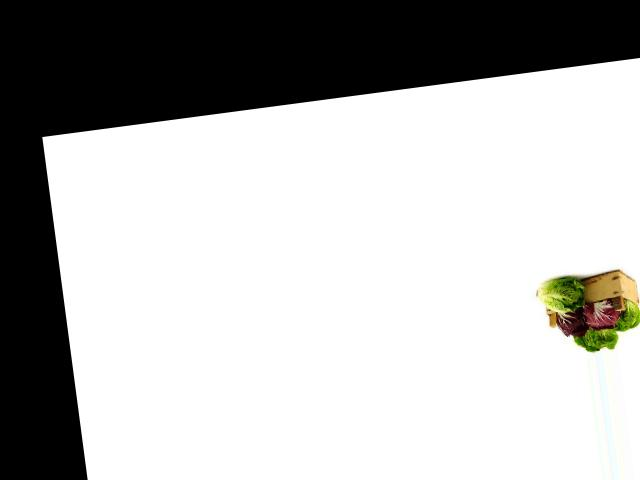lettuce: (572, 318, 619, 354)
